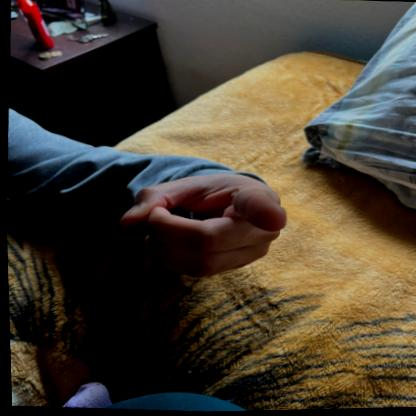X: (109, 165, 296, 290)
